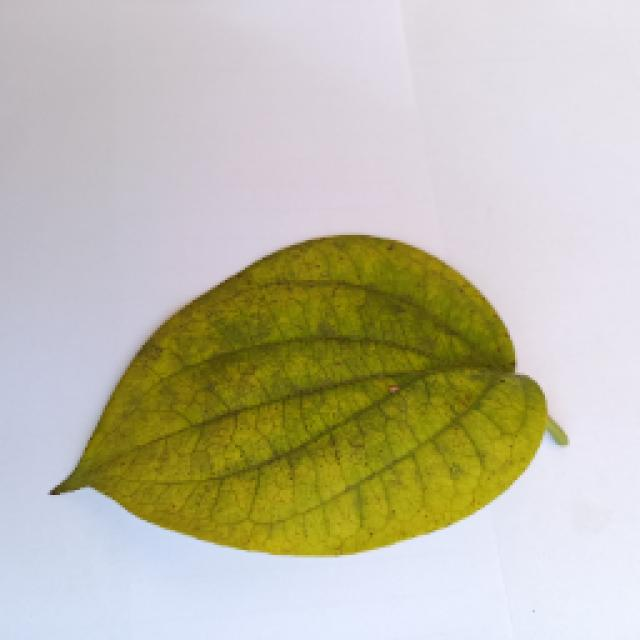slow-decline: (45, 225, 573, 557)
